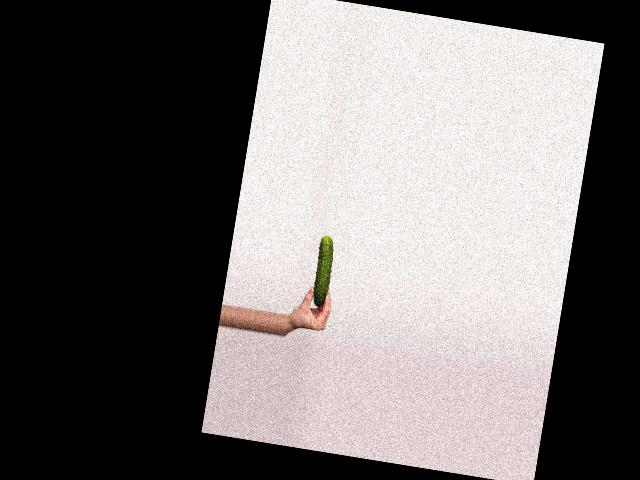cucumber: (311, 235, 336, 307)
